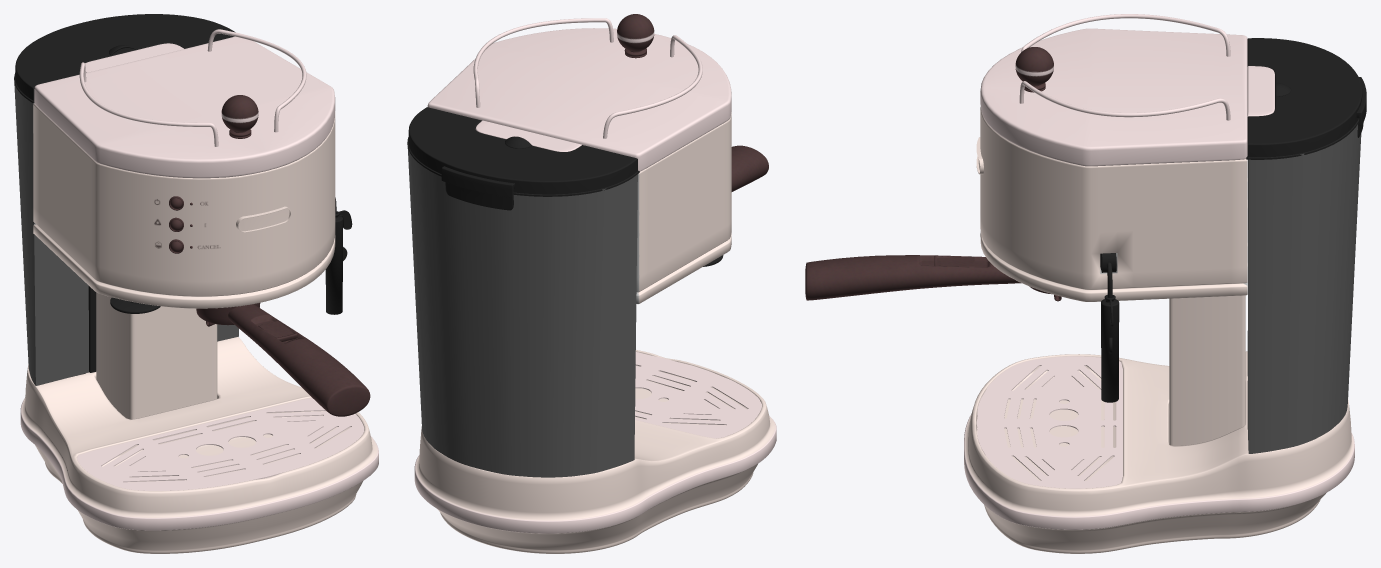
The model's file is coffee_machine.glb.
3 views of the same model, side by side, from view 1: azimuth 30°, elevation 25°; view 2: azimuth 150°, elevation 25°; view 3: azimuth 270°, elevation 25° (orthographic). The views are drawn at different scales.
Parts seen in each view (by area): view 1: kfj_4; view 2: kfj_4; view 3: kfj_4.
Boxes of the visible parts, bbox=[...] form: kfj_4: bbox=[14, 14, 378, 553]; kfj_4: bbox=[407, 14, 776, 553]; kfj_4: bbox=[805, 14, 1366, 553].
Size of the model in its own units: 0.4203 by 0.5858 by 0.6723.
2 materials, 2 textured.
